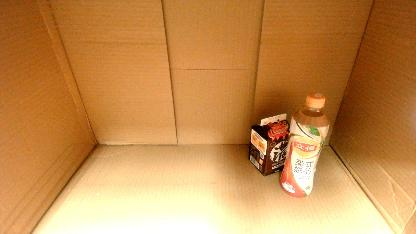Plastic Bottle: (280, 90, 330, 200)
